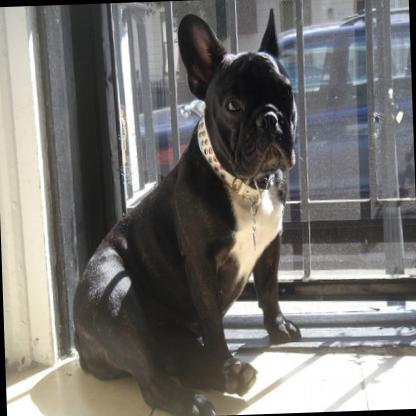French_bulldog: (59, 5, 305, 416)
